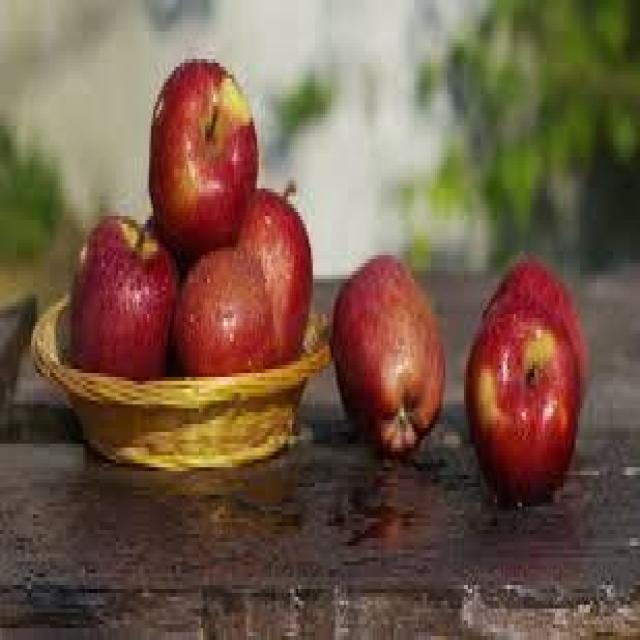maca: (462, 251, 588, 503)
